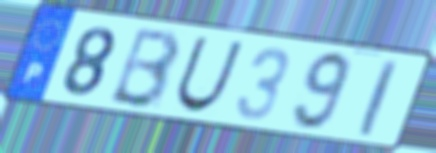3: (236, 46, 290, 121)
8: (62, 25, 118, 98)
9: (290, 49, 353, 133)
B: (105, 26, 184, 111)
I: (356, 56, 402, 140)
U: (172, 34, 247, 114)
